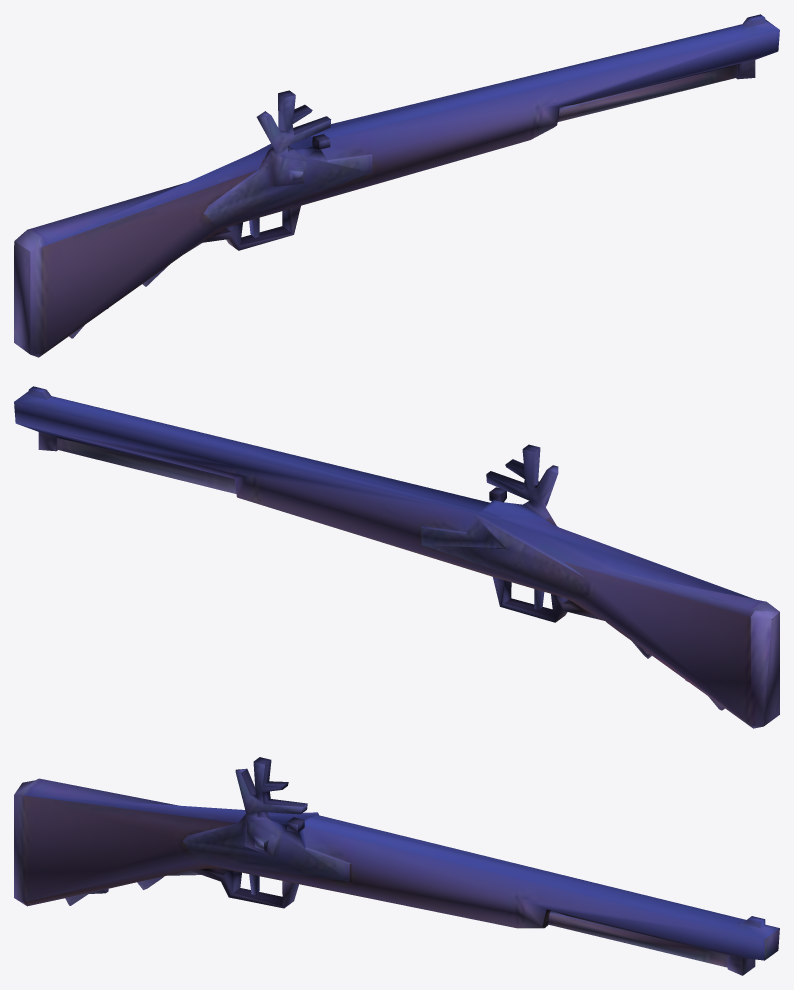
Rendered from model.progressive.glb.
3 views of the same model, one above another, from view 1: azimuth 30°, elevation 25°; view 2: azimuth 150°, elevation 25°; view 3: azimuth 330°, elevation 25° (orthographic).
Parts seen in each view (by area): view 1: mesh_input; view 2: mesh_input; view 3: mesh_input.
Part boxes in pixels (x1=…): mesh_input: x1=14, y1=14, x2=779, y2=357; mesh_input: x1=14, y1=386, x2=779, y2=728; mesh_input: x1=14, y1=757, x2=779, y2=975.
Bounding box in the file's own units: 1.89 × 0.502 × 0.1406.
Materials: 1 (1 with a texture image).
